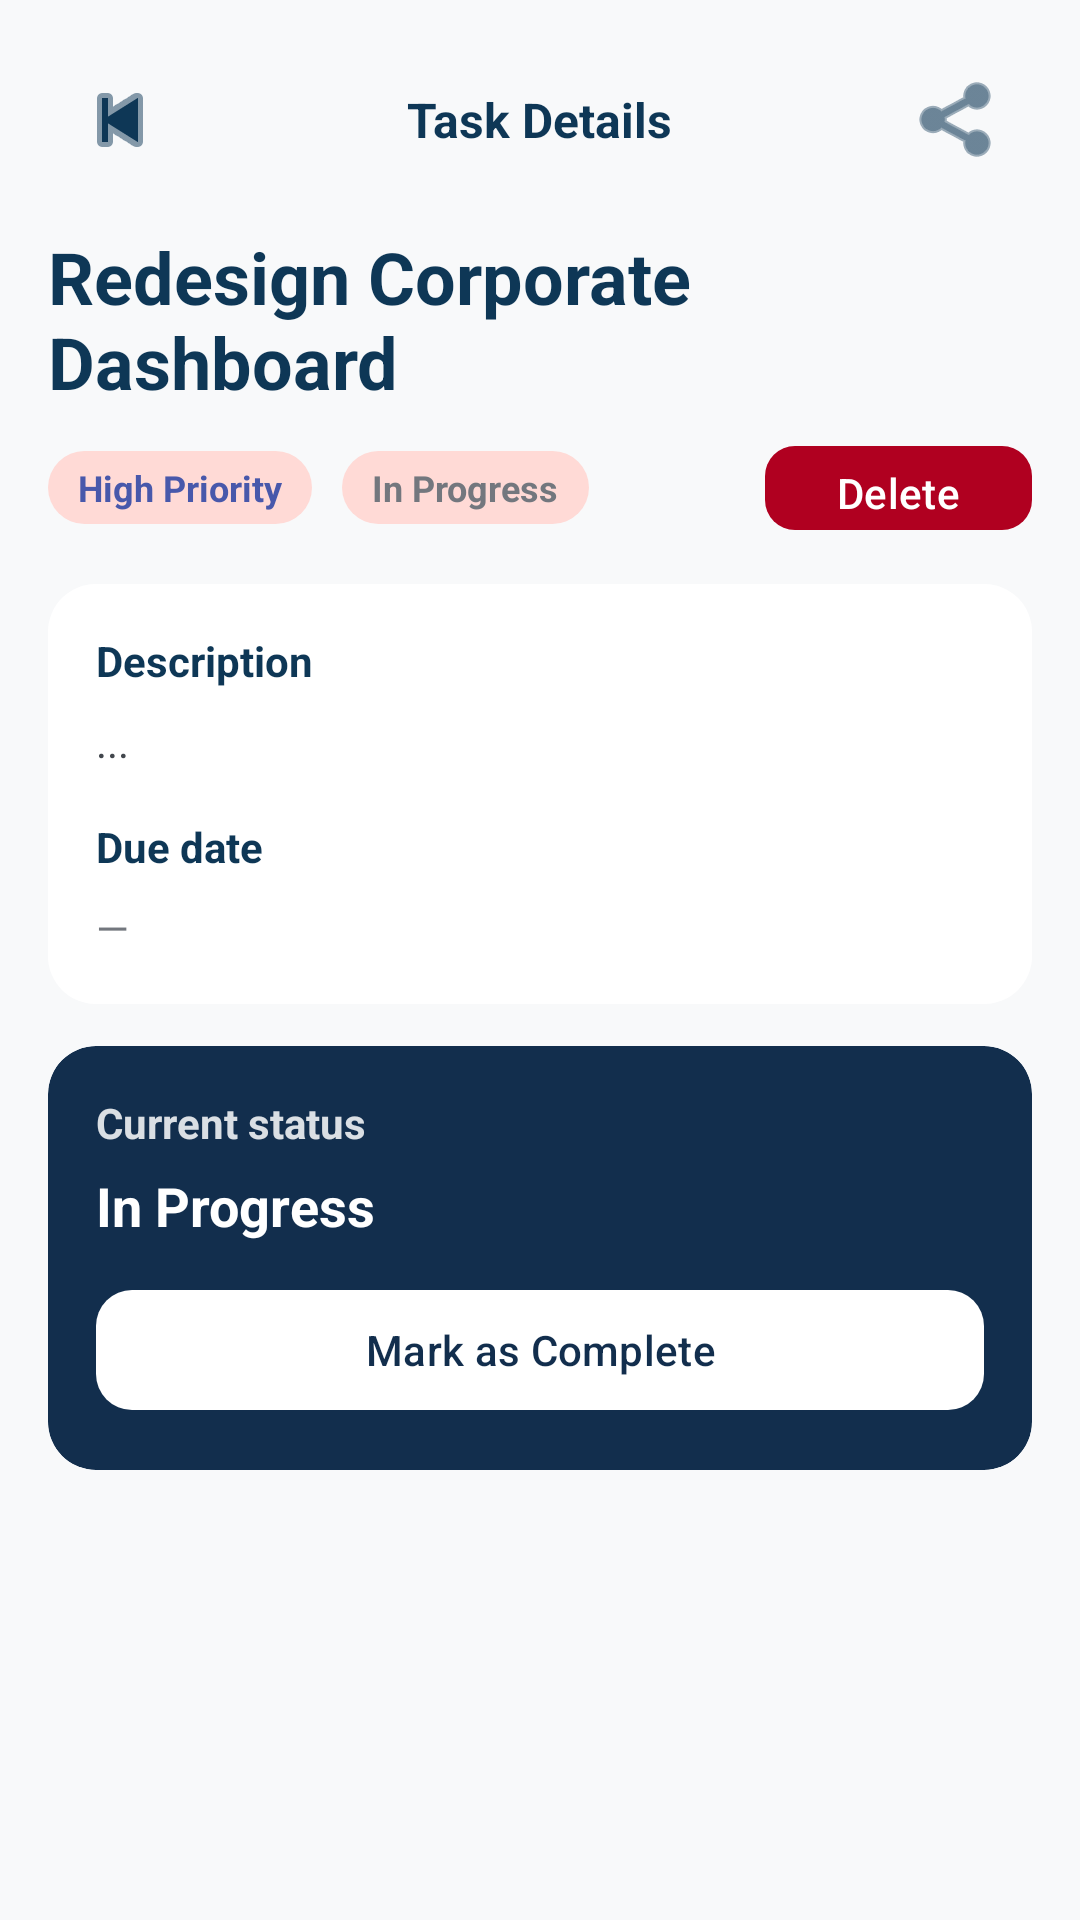

Named icons in this screenshot (1080 x 1920) and their centers, [x,y]:
Back: [120,120]
Share: [955,119]
